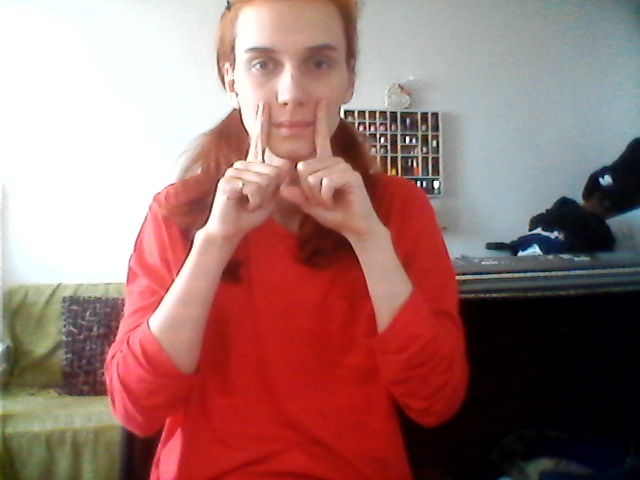h: (218, 99, 370, 237)
